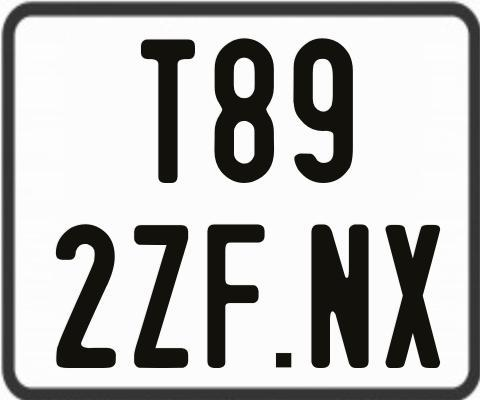2: (55, 224, 115, 374)
8: (213, 35, 276, 180)
9: (291, 36, 356, 182)
F: (206, 223, 270, 373)
N: (308, 224, 370, 368)
T: (138, 38, 193, 182)
X: (386, 223, 445, 372)
Z: (134, 224, 188, 370)
